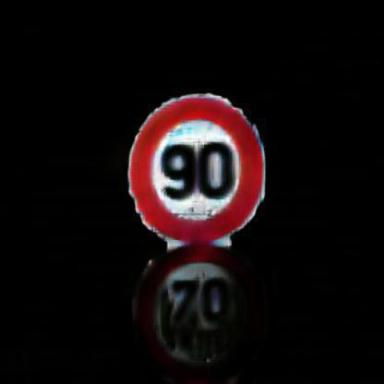Speed_limit_90: (130, 98, 264, 242)
